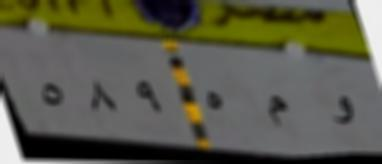5: (38, 74, 68, 112)
8: (85, 78, 118, 118)
9: (135, 72, 166, 117)
haa: (202, 86, 226, 117)
meem: (262, 90, 293, 134)
waw: (320, 88, 358, 132)
